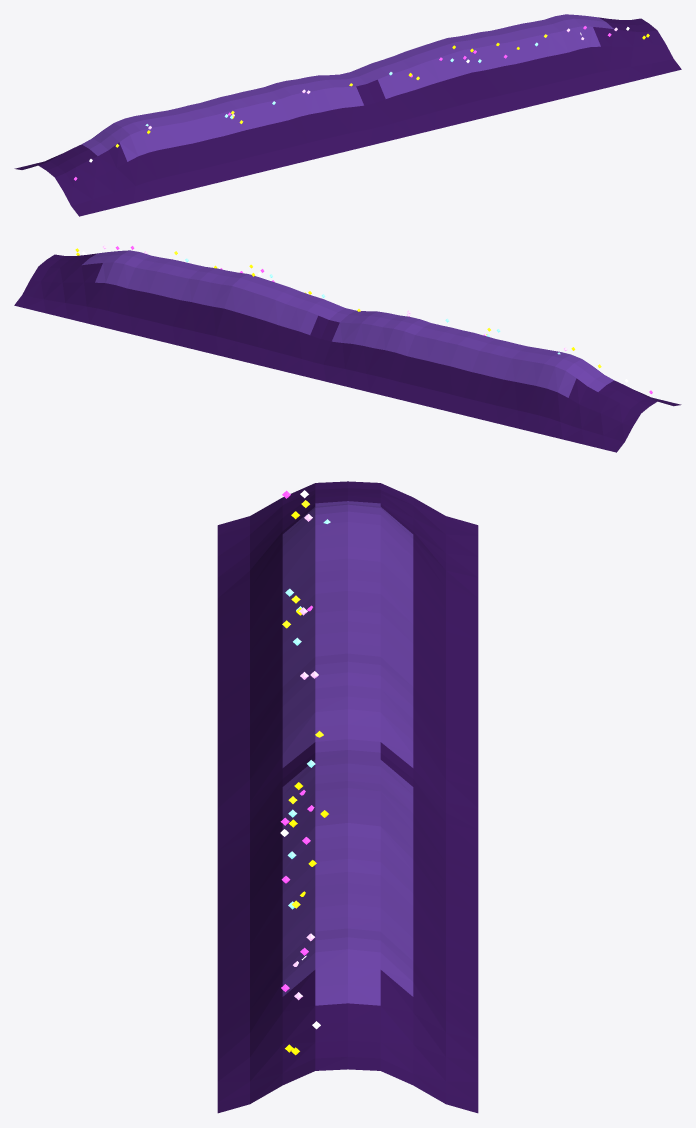
File: W6_Far_PartyHills.fbx
The picture shows the model from 3 angles, top to bottom: view 1: azimuth 30°, elevation 25°; view 2: azimuth 150°, elevation 25°; view 3: azimuth 270°, elevation 25°; orthographic projection. The views are drawn at different scales.
Visible parts, largest first — view 1: W6_Far_PartyHills; view 2: W6_Far_PartyHills; view 3: W6_Far_PartyHills.
Boxes of the visible parts, <box> form: W6_Far_PartyHills: <box>14,14,681,216</box>; W6_Far_PartyHills: <box>14,245,681,452</box>; W6_Far_PartyHills: <box>217,481,478,1113</box>.
Bounding box in the file's own units: 480 × 41.02 × 90.
